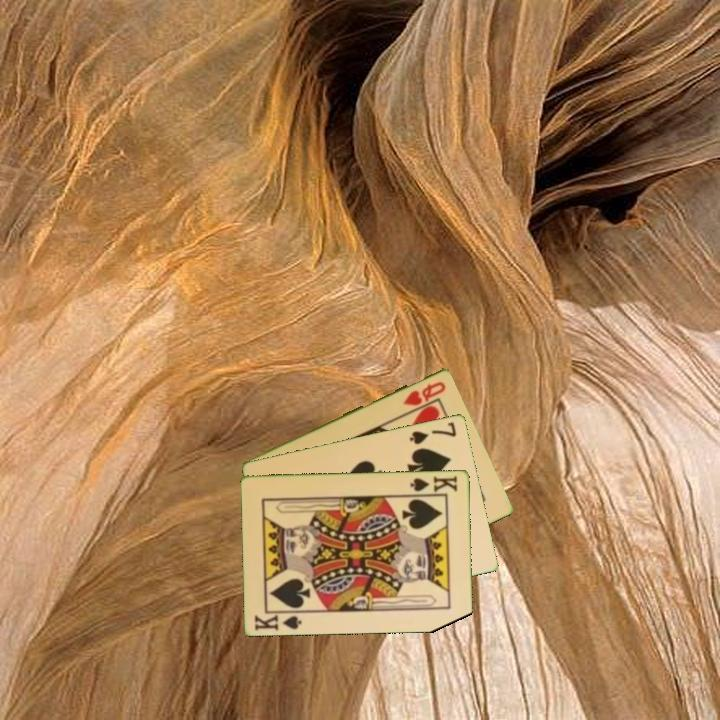7s: (406, 418, 459, 447)
Ks: (251, 608, 306, 633), (407, 472, 460, 495)
Qh: (400, 378, 449, 408)
